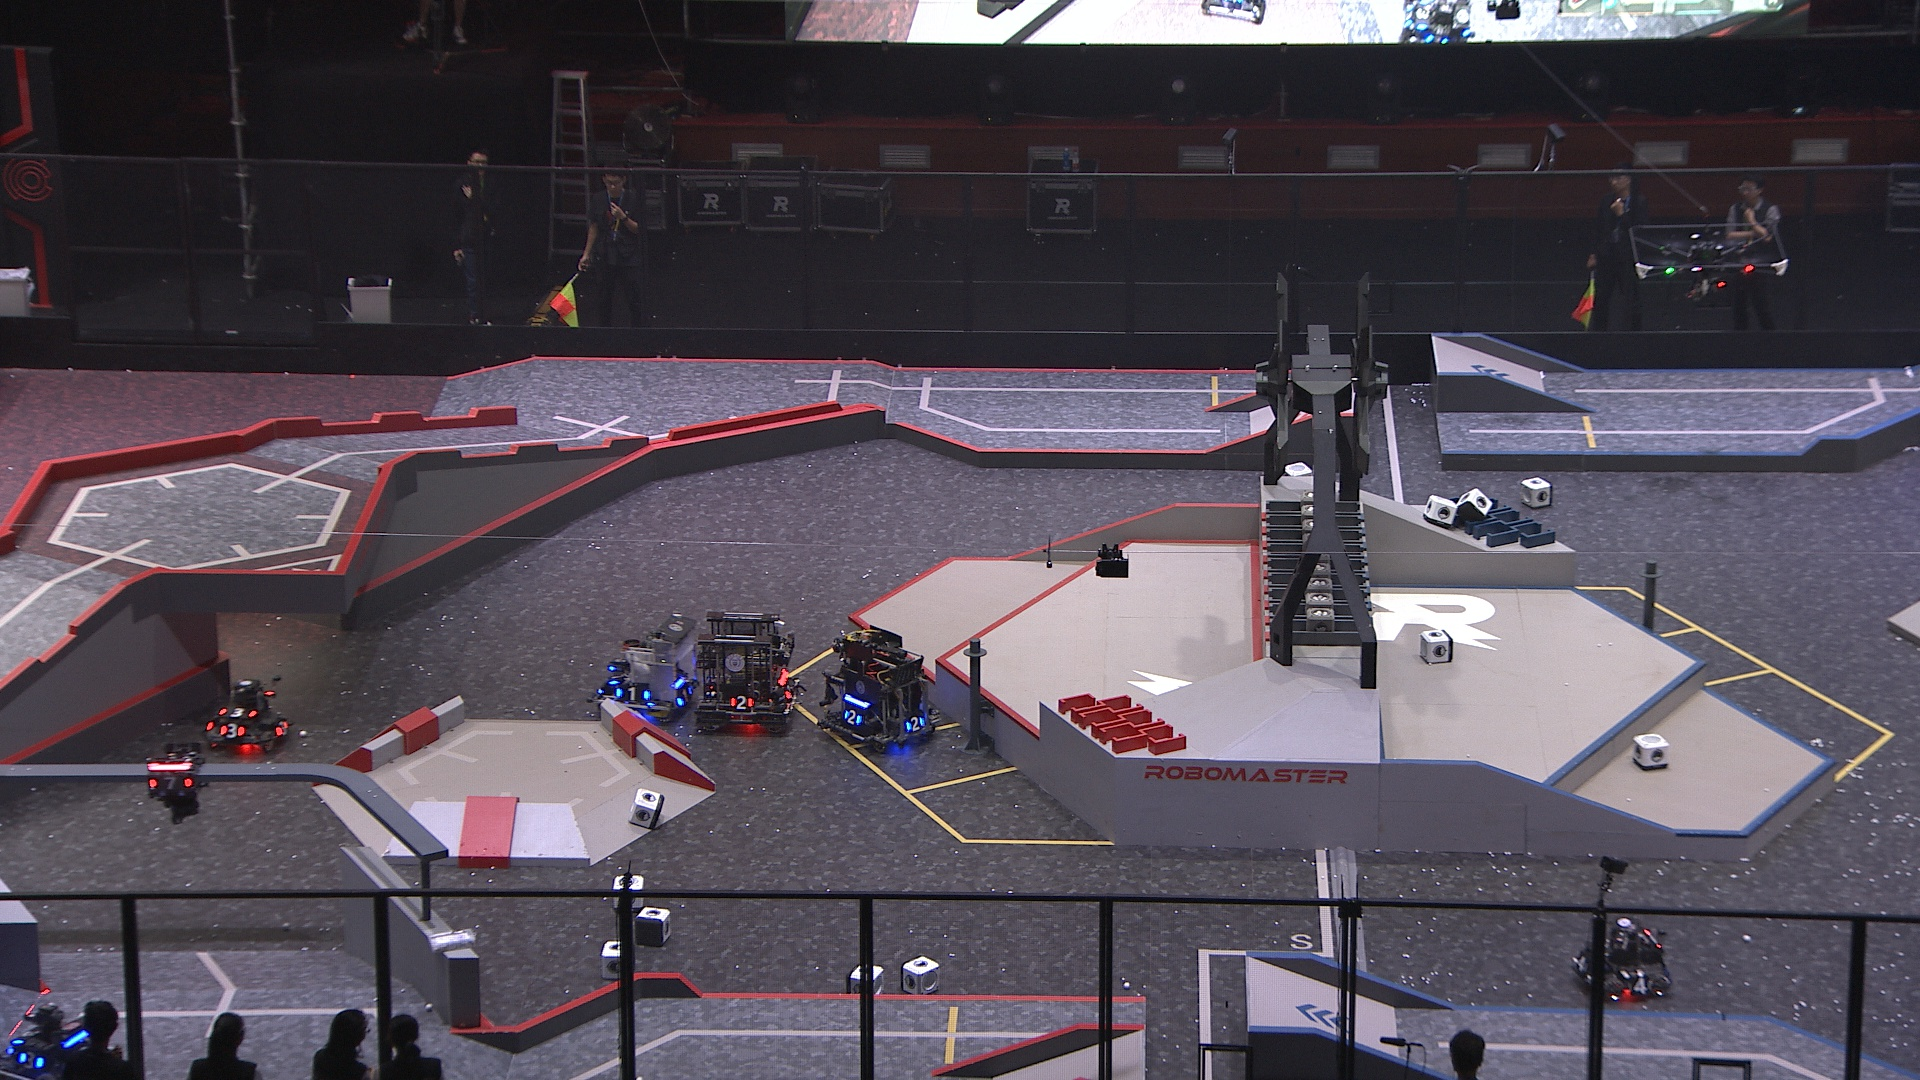armor: (148, 774, 193, 794), (15, 1046, 47, 1072), (215, 702, 258, 719), (671, 680, 698, 708), (612, 684, 651, 702), (1629, 973, 1655, 994), (216, 721, 248, 738), (727, 694, 756, 712), (605, 669, 628, 692), (266, 716, 291, 737), (841, 705, 864, 727), (902, 713, 927, 732), (1575, 951, 1590, 973), (781, 683, 799, 702)
car: (818, 621, 945, 752), (688, 605, 808, 733), (588, 611, 702, 725), (1571, 913, 1673, 1004), (200, 674, 297, 760)
watcher: (142, 738, 208, 825)
